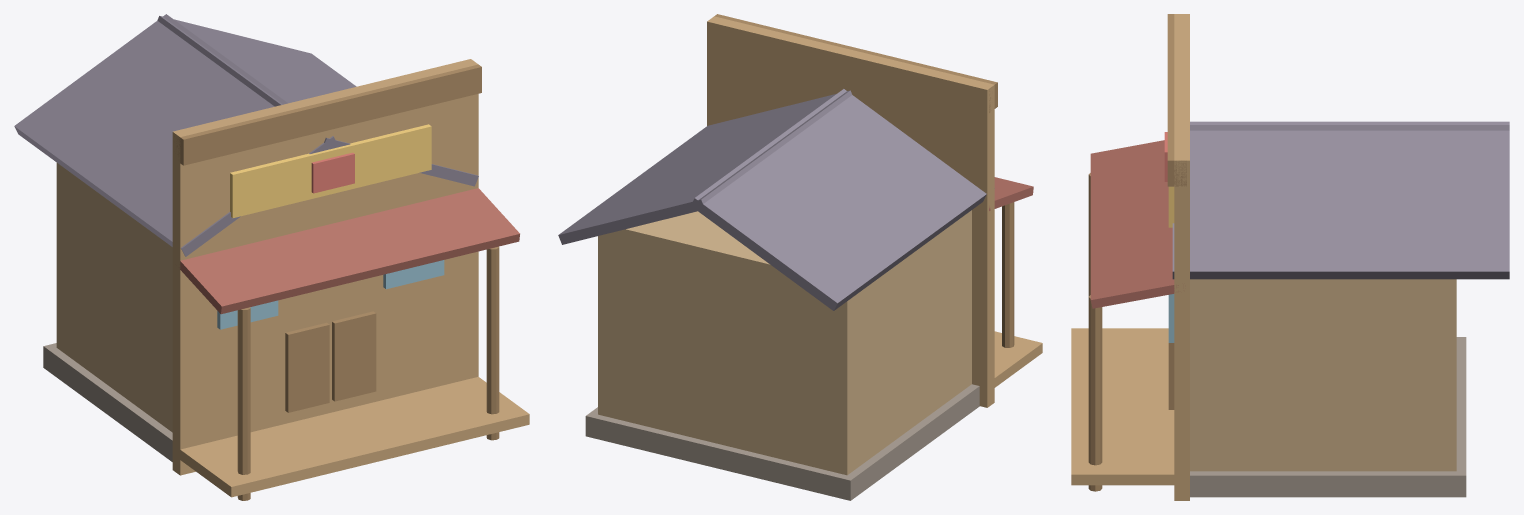
File: saloon.glb
The picture shows the model from 3 angles, left to right: view 1: azimuth 30°, elevation 25°; view 2: azimuth 150°, elevation 25°; view 3: azimuth 270°, elevation 25°; orthographic projection. The views are drawn at different scales.
Parts seen in each view (by area): view 1: saloon; view 2: saloon; view 3: saloon.
Boxes of the visible parts, x1,y1,x2,y2 form: saloon: [14, 14, 529, 500]; saloon: [558, 14, 1042, 500]; saloon: [1071, 14, 1509, 500].
Size of the model in its own units: 3.6 by 3.91 by 4.55.
